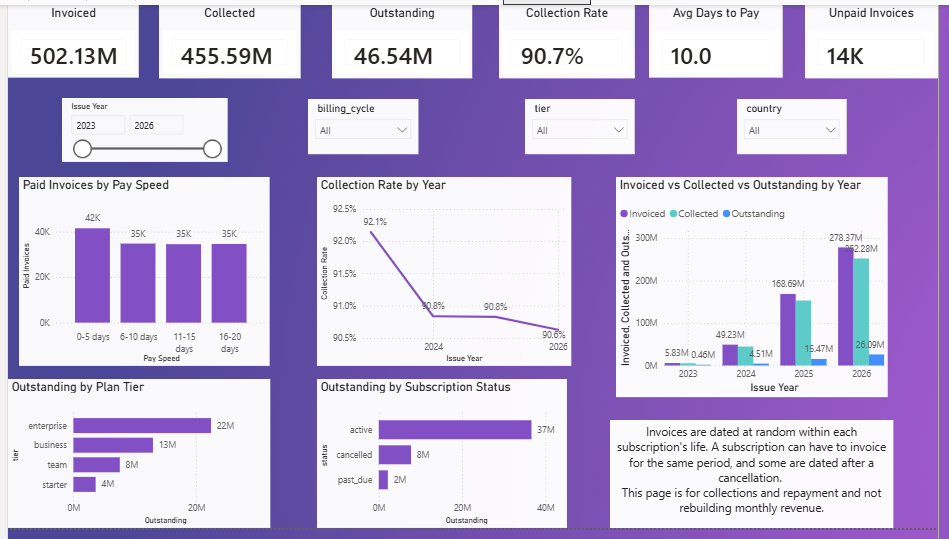

What the dashboard file says about the page in this screenshot:
{"tool":"powerbi","page":{"name":"Collections","canvas":[1280,720],"ordinal":4},"visuals":[{"type":"cardVisual","title":"Invoiced","fields":{"Data":["Measures (2).Invoiced"]},"box":[0,0,180.3,100.5],"z":0},{"type":"cardVisual","title":"Collected","fields":{"Data":["Measures (2).Collected"]},"box":[207.8,0,194.6,101],"z":1000},{"type":"cardVisual","title":"Outstanding","fields":{"Data":["invoices.Outstanding"]},"box":[446.3,0,193.2,101],"z":2000},{"type":"cardVisual","title":"Collection Rate","fields":{"Data":["Measures (2).Collection Rate"]},"box":[676.1,0,187.3,101],"z":3000},{"type":"cardVisual","title":"Avg Days to Pay","fields":{"Data":["invoices.Avg Days to Pay"]},"box":[882.2,0,184.4,100.5],"z":4000},{"type":"cardVisual","title":"Unpaid Invoices","fields":{"Data":["invoices.Unpaid Invoices"]},"box":[1097.6,0,182.9,101],"z":5000},{"type":"clusteredColumnChart","title":"Invoiced vs Collected vs Outstanding by Year","fields":{"Category":["invoices.Issue Year"],"Y":["Measures (2).Invoiced","Measures (2).Collected","invoices.Outstanding"]},"box":[836.8,236.7,374.4,302.8],"z":6000},{"type":"lineChart","title":"Collection Rate by Year","fields":{"Category":["invoices.Issue Year"],"Y":["Measures (2).Collection Rate"]},"box":[425.9,237.1,349.8,260.5],"z":7000},{"type":"clusteredColumnChart","fields":{"Category":["invoices.Pay Speed"],"Y":["invoices.Paid Invoices"]},"box":[14.6,237.1,345.4,260.5],"z":8000},{"type":"clusteredBarChart","title":"Outstanding by Plan Tier","fields":{"Category":["plans.tier"],"Y":["invoices.Outstanding"]},"box":[0,514.8,360.6,205.1],"z":9000},{"type":"clusteredBarChart","title":"Outstanding by Subscription Status","fields":{"Category":["subscriptions.status"],"Y":["invoices.Outstanding"]},"box":[425.3,514.8,344.1,205.1],"z":10000},{"type":"textbox","box":[828.6,571.2,389.5,148.6],"z":11000},{"type":"slicer","fields":{"Values":["invoices.Issue Year"]},"box":[74.6,127.3,228.3,87.8],"z":12000},{"type":"slicer","fields":{"Values":["plans.tier"]},"box":[711.6,129.4,151.4,75.7],"z":13000},{"type":"slicer","fields":{"Values":["accounts.country"]},"box":[1003.4,129.4,151.4,75.7],"z":14000},{"type":"slicer","fields":{"Values":["subscriptions.billing_cycle"]},"box":[412.7,128.8,152.2,76.1],"z":15000}]}

Visuals, with their boxes in screenshot pixels (x1, y1, x2, y2), scaled from the page's 1280x720 canvas onto the 949x539 screenshot:
"Invoiced" cardVisual: {"left": 0, "top": 0, "right": 134, "bottom": 75}
"Collected" cardVisual: {"left": 154, "top": 0, "right": 298, "bottom": 76}
"Outstanding" cardVisual: {"left": 331, "top": 0, "right": 474, "bottom": 76}
"Collection Rate" cardVisual: {"left": 501, "top": 0, "right": 640, "bottom": 76}
"Avg Days to Pay" cardVisual: {"left": 654, "top": 0, "right": 791, "bottom": 75}
"Unpaid Invoices" cardVisual: {"left": 814, "top": 0, "right": 948, "bottom": 76}
"Invoiced vs Collected vs Outstanding by Year" clusteredColumnChart: {"left": 620, "top": 177, "right": 898, "bottom": 404}
"Collection Rate by Year" lineChart: {"left": 316, "top": 177, "right": 575, "bottom": 373}
clusteredColumnChart - invoices.Pay Speed x invoices.Paid Invoices: {"left": 11, "top": 177, "right": 267, "bottom": 373}
"Outstanding by Plan Tier" clusteredBarChart: {"left": 0, "top": 385, "right": 267, "bottom": 538}
"Outstanding by Subscription Status" clusteredBarChart: {"left": 315, "top": 385, "right": 570, "bottom": 538}
textbox: {"left": 614, "top": 428, "right": 903, "bottom": 538}
slicer - invoices.Issue Year: {"left": 55, "top": 95, "right": 225, "bottom": 161}
slicer - plans.tier: {"left": 528, "top": 97, "right": 640, "bottom": 154}
slicer - accounts.country: {"left": 744, "top": 97, "right": 856, "bottom": 154}
slicer - subscriptions.billing_cycle: {"left": 306, "top": 96, "right": 419, "bottom": 153}
